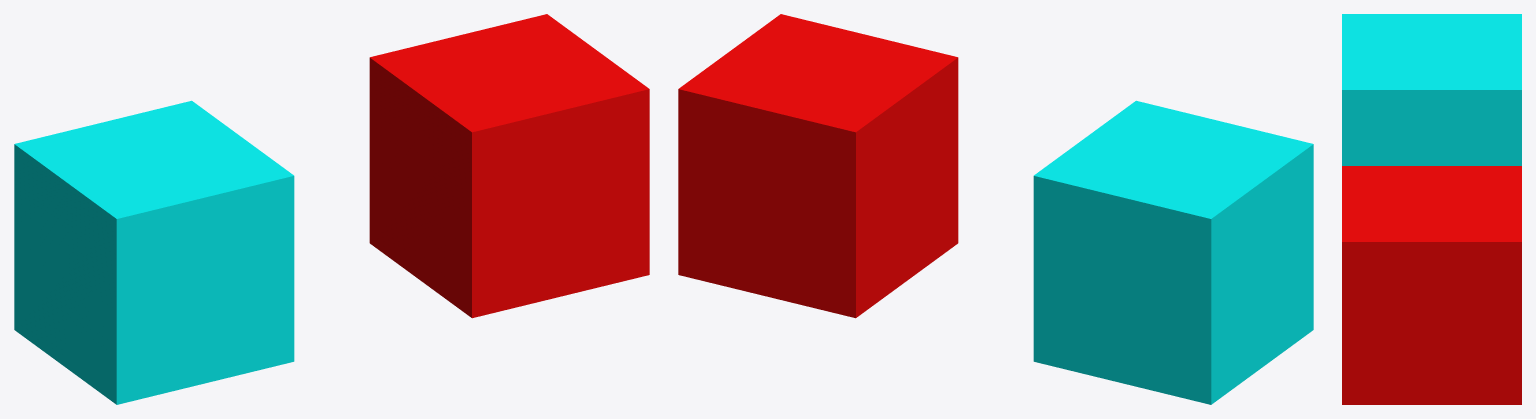
The model's file is TwoCubes.gltf.
3 views of the same model, side by side, from view 1: azimuth 30°, elevation 25°; view 2: azimuth 150°, elevation 25°; view 3: azimuth 270°, elevation 25° (orthographic). The views are drawn at different scales.
Visible parts, largest first — view 1: CubeA, CubeB; view 2: CubeA, CubeB; view 3: CubeA, CubeB.
Part boxes in pixels (x1,y1,x2,y2): CubeA: (369, 14, 649, 318); CubeB: (14, 100, 294, 404); CubeA: (678, 14, 958, 318); CubeB: (1033, 100, 1313, 404); CubeA: (1342, 166, 1521, 404); CubeB: (1342, 14, 1521, 165).
Bounding box in the file's own units: 6 × 2 × 2.
